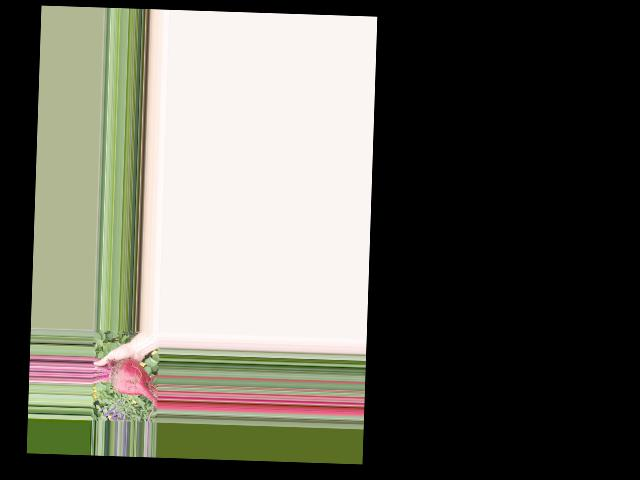beet: (91, 357, 159, 408)
